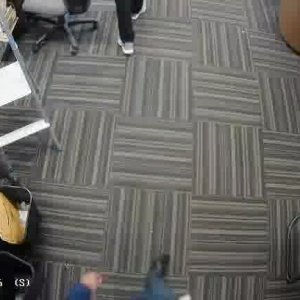person: (113, 0, 149, 53)
